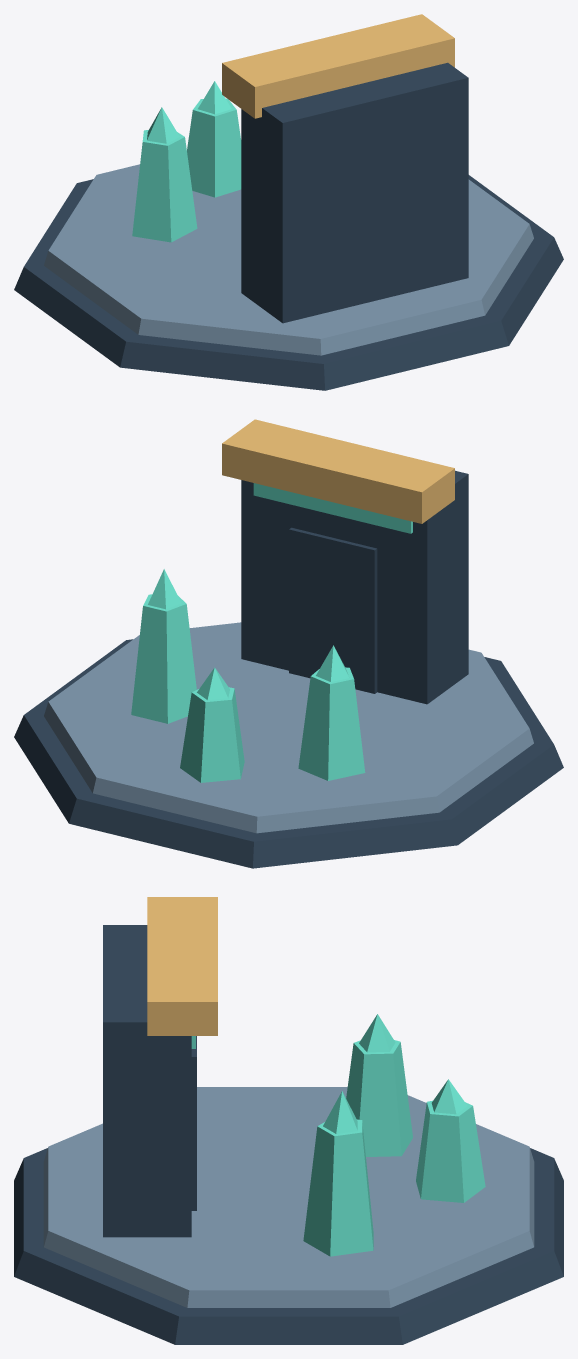
Rendered from CrystalMine_1.fbx.
The picture shows the model from 3 angles, top to bottom: view 1: azimuth 30°, elevation 25°; view 2: azimuth 150°, elevation 25°; view 3: azimuth 270°, elevation 25°; orthographic projection. The views are drawn at different scales.
Visible parts, largest first — view 1: CrystalMine_1; view 2: CrystalMine_1; view 3: CrystalMine_1.
Boxes of the visible parts, <box> form: CrystalMine_1: <box>14,14,563,390</box>; CrystalMine_1: <box>14,419,563,868</box>; CrystalMine_1: <box>14,897,563,1344</box>.
Bounding box in the file's own units: 2.9 × 1.62 × 2.9.
